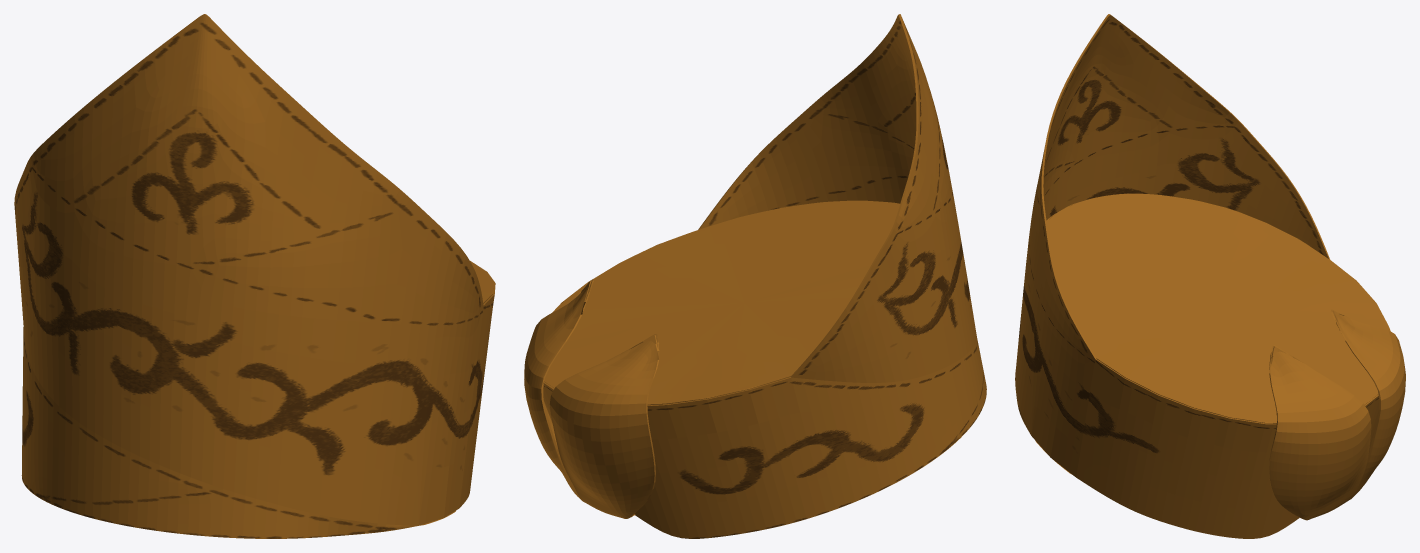
File: headdress.gltf
3 renders of one model, left to right at view 1: azimuth 30°, elevation 25°; view 2: azimuth 150°, elevation 25°; view 3: azimuth 270°, elevation 25°, orthographic. The views are drawn at different scales.
Visible parts, largest first — view 1: Cylinder; view 2: Cylinder; view 3: Cylinder.
Boxes of the visible parts, <box> form: Cylinder: <box>14,14,495,538</box>; Cylinder: <box>524,14,986,538</box>; Cylinder: <box>1015,14,1405,538</box>.
Size of the model in its own units: 3.16 by 3.78 by 3.19.
1 material, 1 textured.
